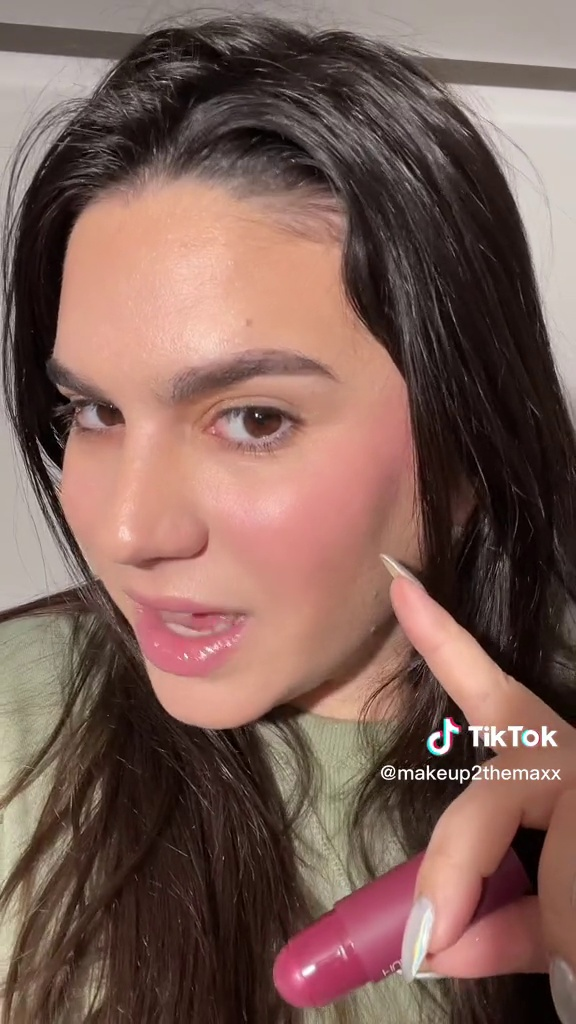train' :'yolo_data/train/images',: (264, 823, 537, 1012)
